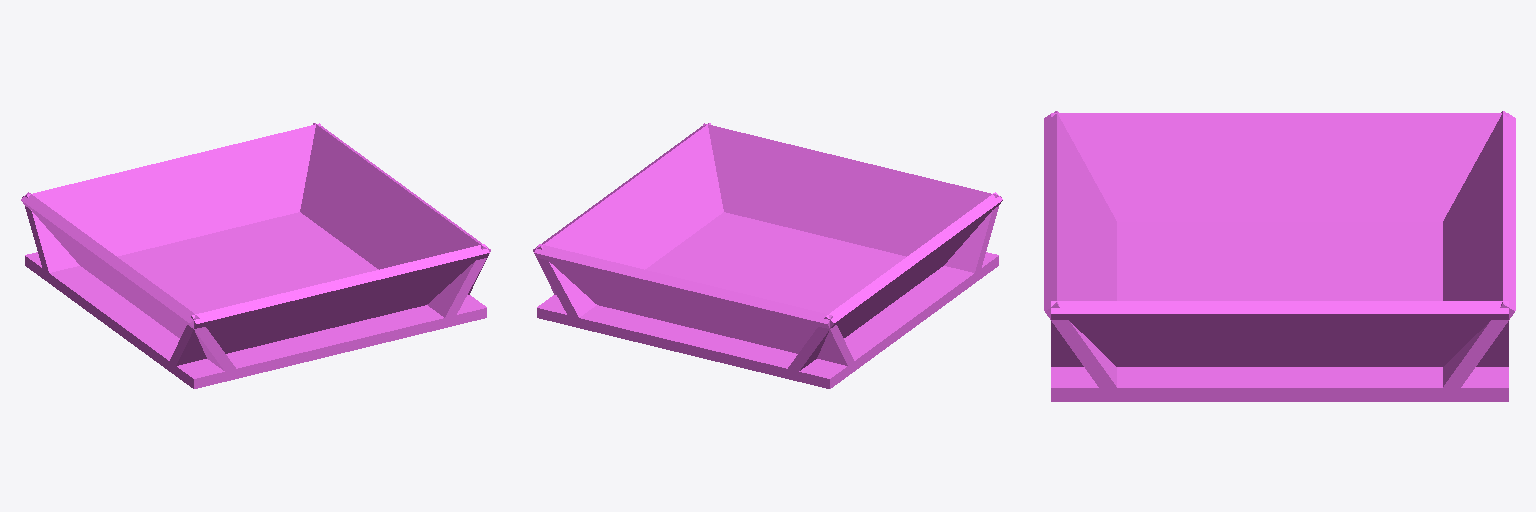
The robot description file, URDF, robot "tray_test":
<?xml version="1.0" ?>
<!-- =================================================================================== -->
<!-- |    This document was autogenerated by xacro from data/tray_test2.urdf.xacro     | -->
<!-- |    EDITING THIS FILE BY HAND IS NOT RECOMMENDED                                 | -->
<!-- =================================================================================== -->
<!-- based on: traybox.urdf -->
<robot name="tray_test" xmlns:xacro="http://www.ros.org/wiki/xacro">
  <material name="tray_material">
    <color rgba="1 0.5 1 1"/>
  </material>
  <link name="base_link">
    <inertial>
      <origin rpy="0 0 0" xyz="0 0 0"/>
      <mass value="0"/>
      <inertia ixx="0" ixy="0" ixz="0" iyy="0" iyz="0" izz="0"/>
    </inertial>
    <visual>
      <origin rpy="0 0 0" xyz="0 0 0.01"/>
      <geometry>
        <box size="0.6 0.6 0.02"/>
      </geometry>
      <material name="tray_material"/>
    </visual>
    <collision>
      <origin rpy="0 0 0" xyz="0 0 0.01"/>
      <geometry>
        <box size="0.6 0.6 0.02"/>
      </geometry>
    </collision>
    <visual>
      <origin rpy="0 0.575469961 0" xyz="0.25918281613 0 0.0729202471461"/>
      <geometry>
        <box size="0.02 0.6 0.15"/>
      </geometry>
      <material name="tray_material"/>
    </visual>
    <collision>
      <origin rpy="0 0.575469961 0" xyz="0.25918281613 0 0.0729202471461"/>
      <geometry>
        <box size="0.02 0.6 0.15"/>
      </geometry>
    </collision>
    <visual>
      <origin rpy="0 -0.575469961 0" xyz="-0.25918281613 0 0.0729202471461"/>
      <geometry>
        <box size="0.02 0.6 0.15"/>
      </geometry>
      <material name="tray_material"/>
    </visual>
    <collision>
      <origin rpy="0 -0.575469961 0" xyz="-0.25918281613 0 0.0729202471461"/>
      <geometry>
        <box size="0.02 0.6 0.15"/>
      </geometry>
    </collision>
    <visual>
      <origin rpy="0.575469961 0 0" xyz="0 -0.25918281613 0.0729202471461"/>
      <geometry>
        <box size="0.6 0.02 0.15"/>
      </geometry>
      <material name="tray_material"/>
    </visual>
    <collision>
      <origin rpy="0.575469961 0 0" xyz="0 -0.25918281613 0.0729202471461"/>
      <geometry>
        <box size="0.6 0.02 0.15"/>
      </geometry>
    </collision>
    <visual>
      <origin rpy="-0.575469961 0 0" xyz="0 0.25918281613 0.0729202471461"/>
      <geometry>
        <box size="0.6 0.02 0.15"/>
      </geometry>
      <material name="tray_material"/>
    </visual>
    <collision>
      <origin rpy="-0.575469961 0 0" xyz="0 0.25918281613 0.0729202471461"/>
      <geometry>
        <box size="0.6 0.02 0.15"/>
      </geometry>
    </collision>
  </link>
</robot>

--- Render facts (derived) ---
3 views of the same robot in one strip: view 1: azimuth 30°, elevation 25°; view 2: azimuth 150°, elevation 25°; view 3: azimuth 270°, elevation 25° (orthographic).
Model tray_test with 1 links and 0 joints (none), rooted at base_link, posed every joint at zero.
Links seen in each view (by area): view 1: base_link; view 2: base_link; view 3: base_link.
Link boxes in pixels (x1=…): base_link: x1=21, y1=123, x2=490, y2=388; base_link: x1=533, y1=123, x2=1002, y2=388; base_link: x1=1044, y1=111, x2=1515, y2=401.
Bounding box of the posed robot: 0.6168 × 0.6168 × 0.1413 m (x, y, z).
Geometry: primitives only (box / cylinder / sphere), no mesh files.